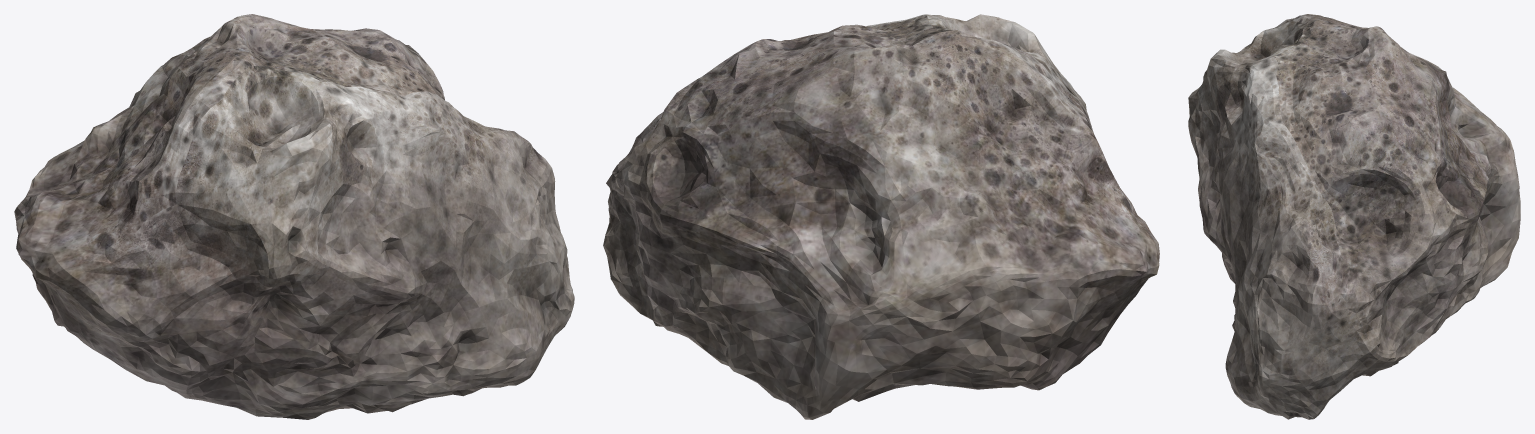
The model's file is asteroid.gltf.
The picture shows the model from 3 angles, left to right: view 1: azimuth 30°, elevation 25°; view 2: azimuth 150°, elevation 25°; view 3: azimuth 270°, elevation 25°; orthographic projection. The views are drawn at different scales.
Visible parts, largest first — view 1: Group64827; view 2: Group64827; view 3: Group64827.
Part boxes in pixels (left/top/right/bottom): Group64827: left=14, top=14, right=574, bottom=419; Group64827: left=603, top=14, right=1159, bottom=419; Group64827: left=1188, top=14, right=1520, bottom=419.
Size of the model in its own units: 1.83 by 1.29 by 1.25.
Materials: 1 (1 with a texture image).
